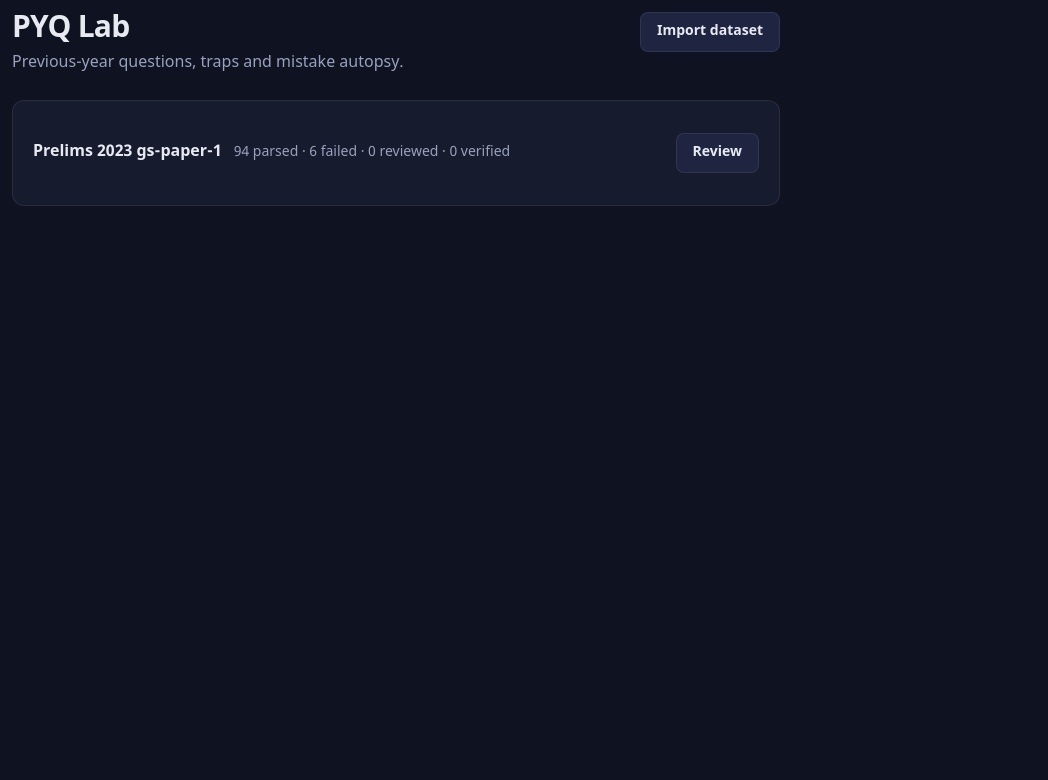
PYQ screen › says where answers come from and never offers an AI-filled key
The image size is (1048, 780).
Click the button with aria-label "review prelims 2023 gs-paper-1". click: (717, 153)
box: x1=676 y1=133 x2=759 y2=173
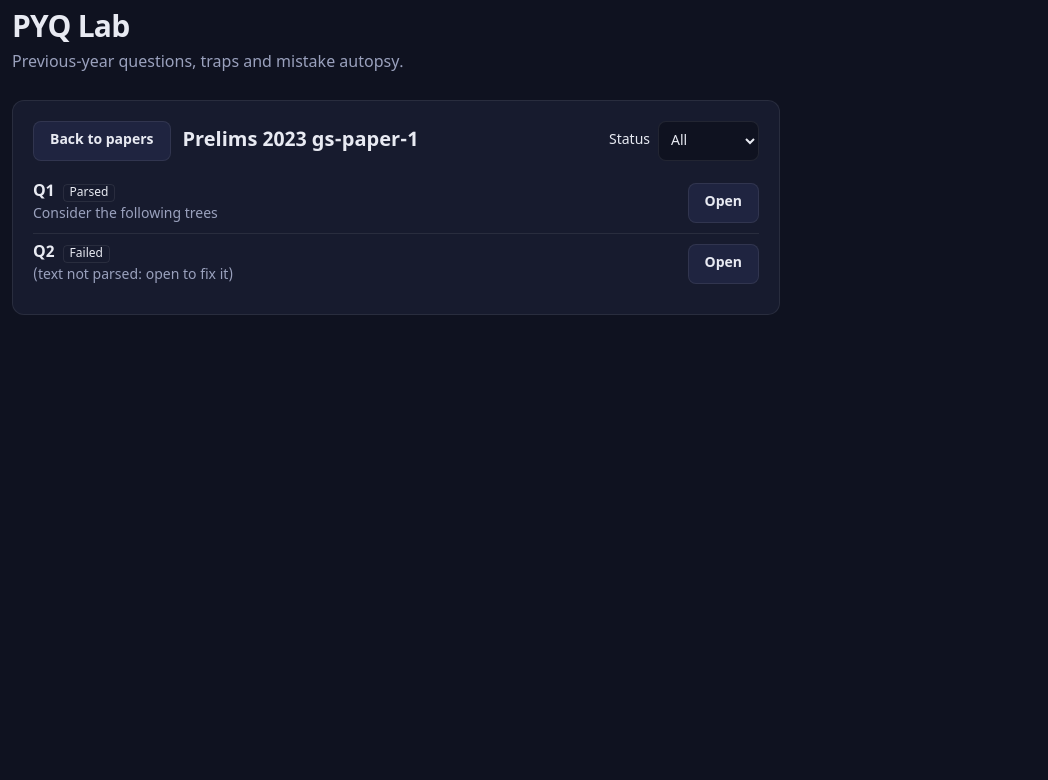
Click the button with aria-label "open question 1". click: (723, 203)
box: x1=688 y1=183 x2=759 y2=223
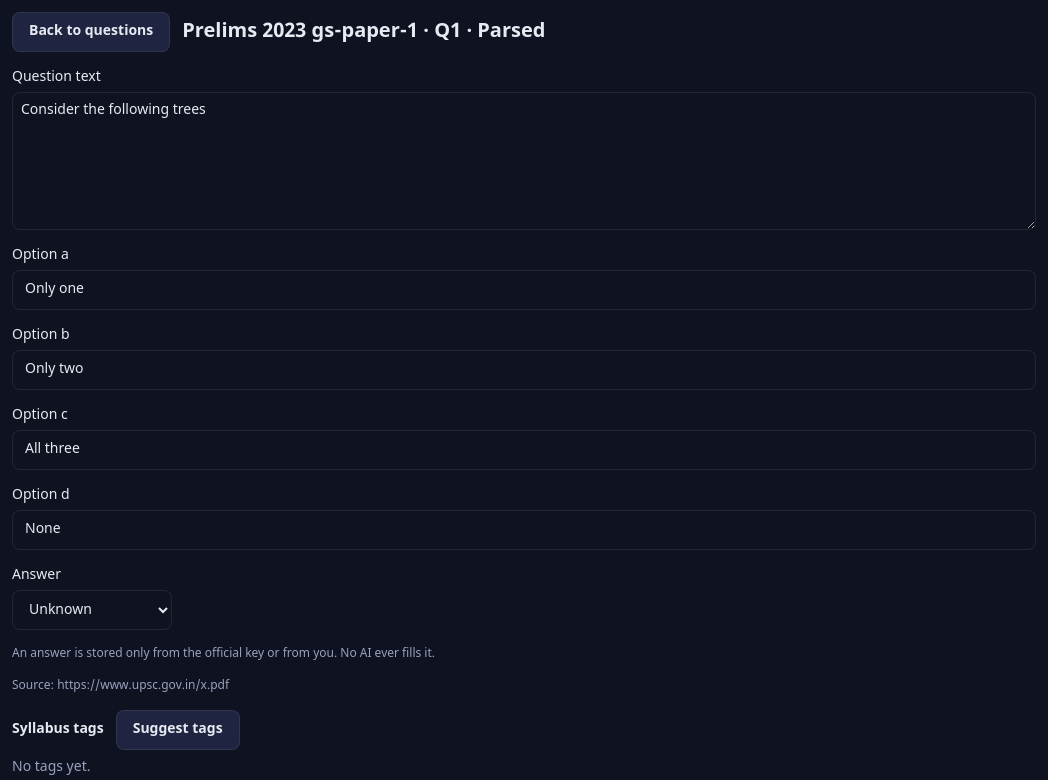
Check: the text "only from the official key or from you" is shown, box x1=12 y1=646 x2=435 y2=662
Check: the text "Source: https://www.upsc.gov.in/x.pdf" is shown, box x1=12 y1=678 x2=229 y2=694
